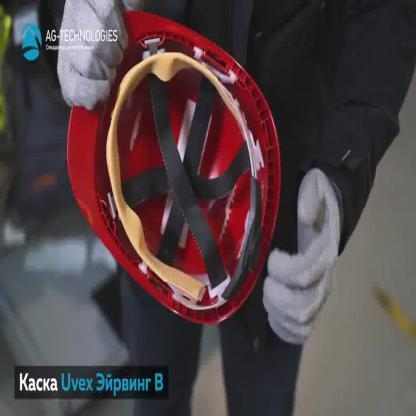gloves: (260, 166, 341, 348), (56, 0, 140, 113)
helmet: (66, 0, 282, 328)
